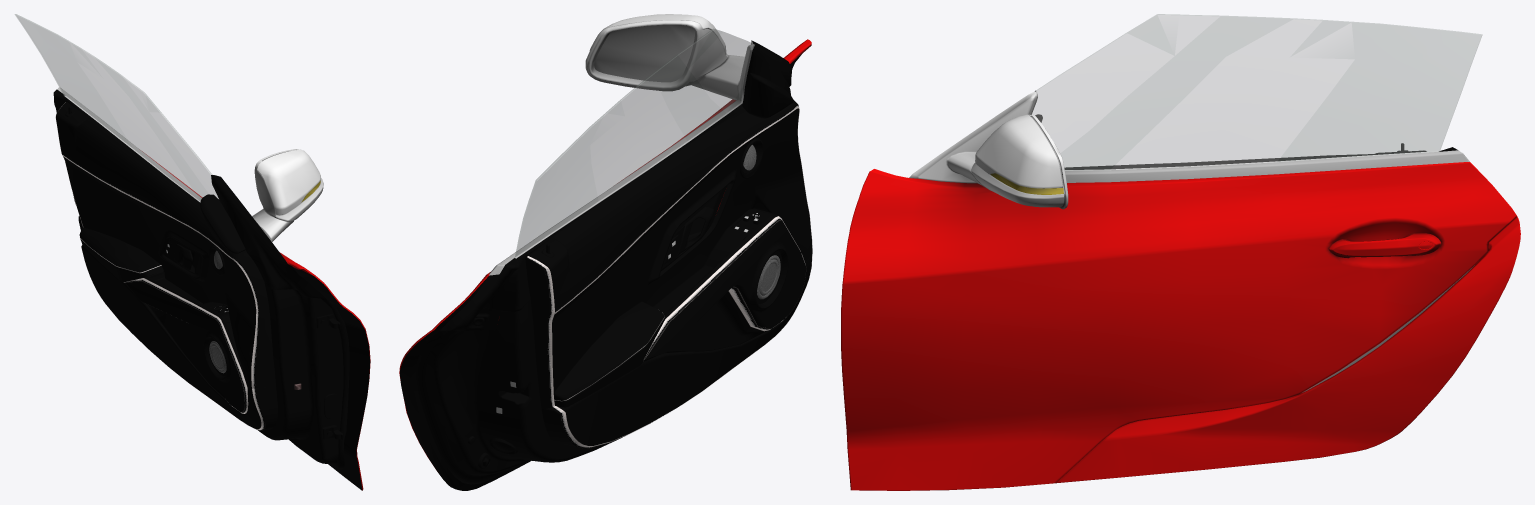
Rendered from Toyota_GRSupra_Door.FBX.
3 views of the same model, side by side, from view 1: azimuth 30°, elevation 25°; view 2: azimuth 150°, elevation 25°; view 3: azimuth 270°, elevation 25° (orthographic). The views are drawn at different scales.
Visible parts, largest first — view 1: Door_Interior, Glass_Exterior, Glass_Interior, Door_Exterior, Stitches; view 2: Door_Interior, Glass_Interior, Glass_Exterior, Door_Exterior, Stitches; view 3: Door_Exterior, Glass_Exterior, Glass_Interior, Door_Interior.
Part boxes in pixels (box(x1,y1,x2,y2)): Door_Interior: box(53, 89, 370, 490); Glass_Exterior: box(15, 14, 217, 200); Glass_Interior: box(15, 15, 218, 201); Door_Exterior: box(57, 87, 370, 490); Stitches: box(55, 102, 265, 430); Door_Interior: box(400, 40, 812, 490); Glass_Interior: box(516, 29, 754, 257); Glass_Exterior: box(515, 29, 752, 257); Door_Exterior: box(399, 14, 811, 458); Stitches: box(526, 104, 812, 448); Door_Exterior: box(841, 91, 1520, 490); Glass_Exterior: box(1032, 14, 1481, 170); Glass_Interior: box(1032, 14, 1481, 169); Door_Interior: box(1035, 90, 1457, 169).
Bounding box in the file's own units: 0.3882 × 0.9335 × 1.38.
